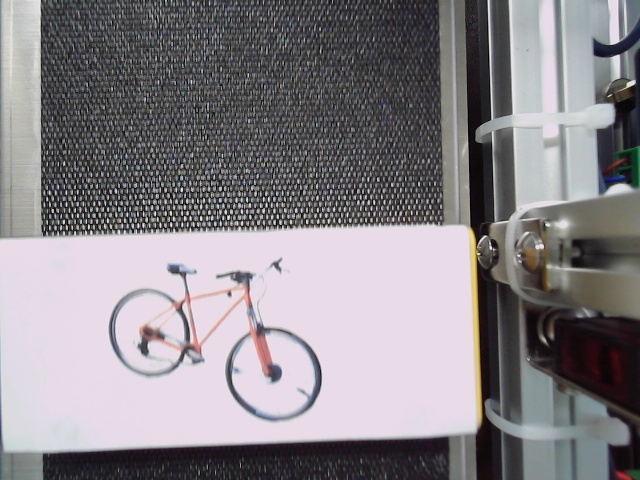bicycle: (108, 254, 326, 424)
